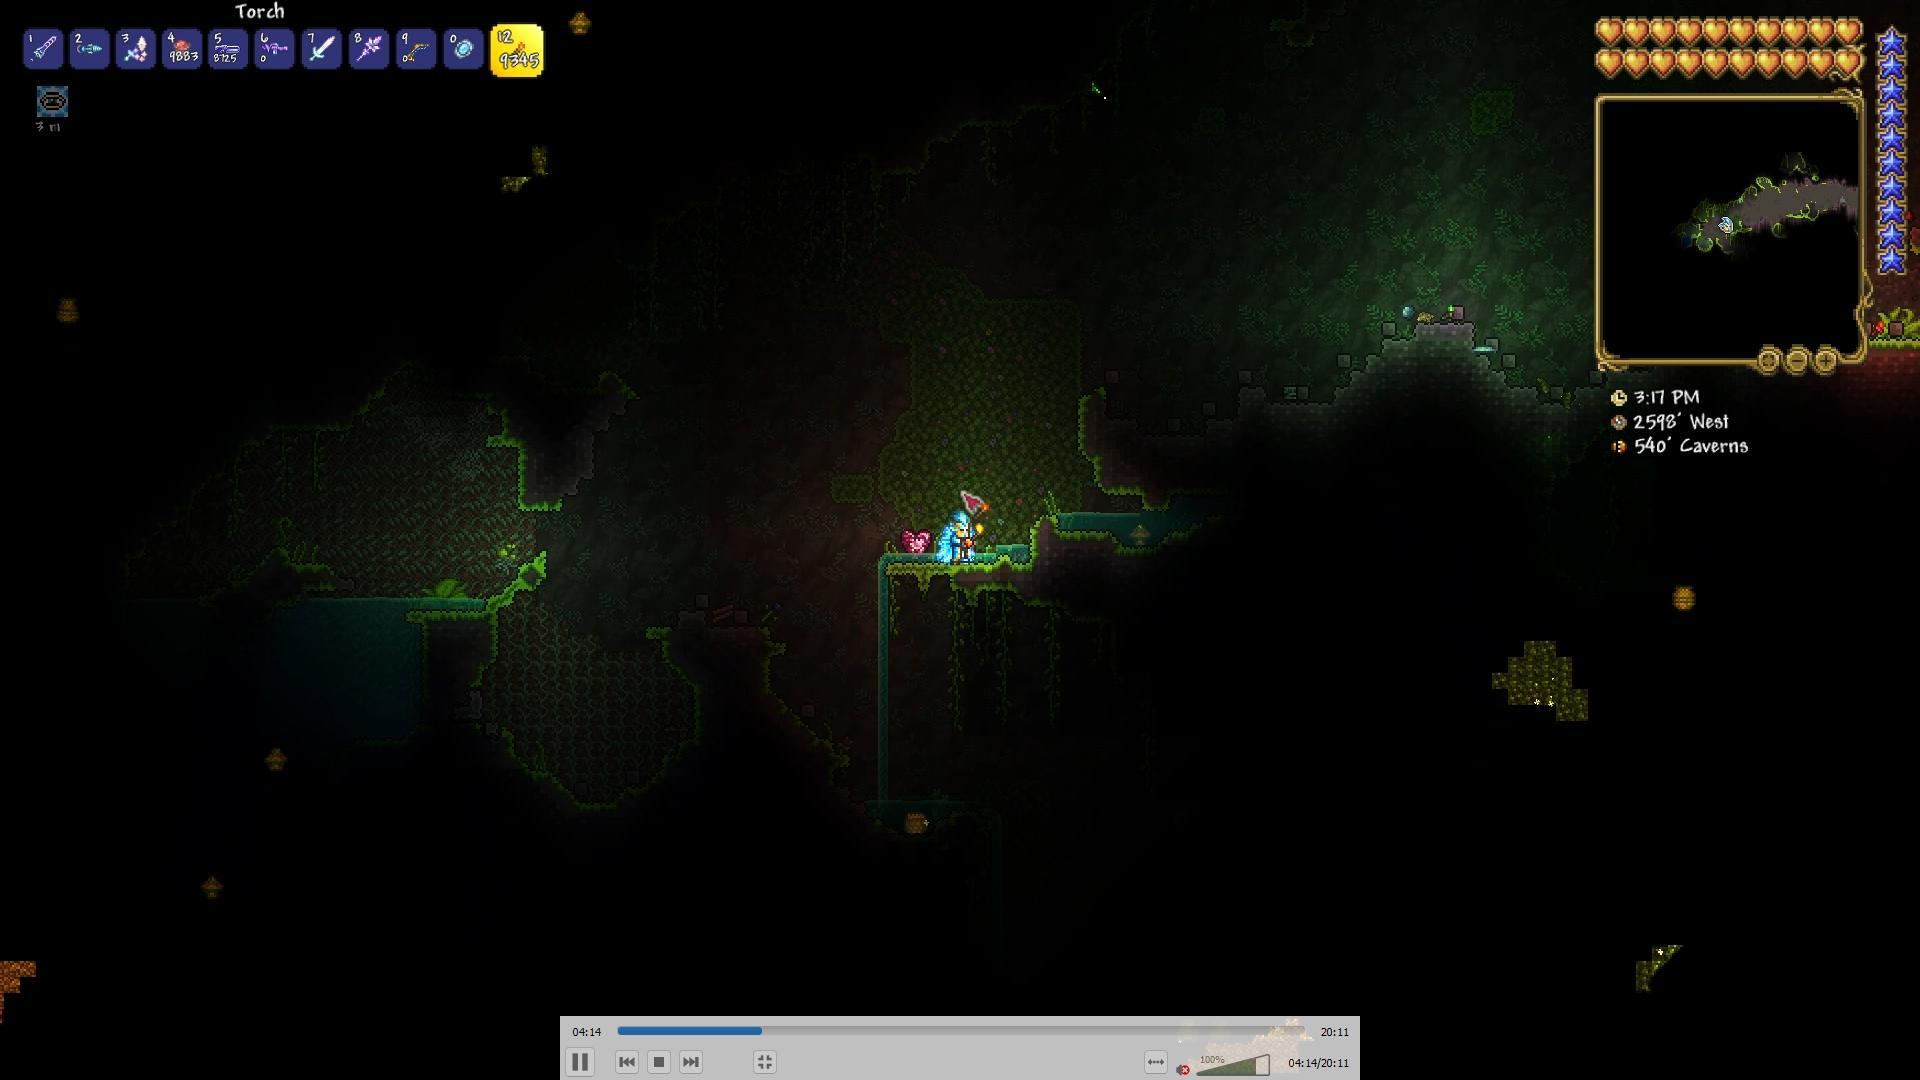lifeC: (897, 527, 931, 556)
liquid: (1072, 504, 1118, 520)
mirror: (452, 36, 476, 61)
